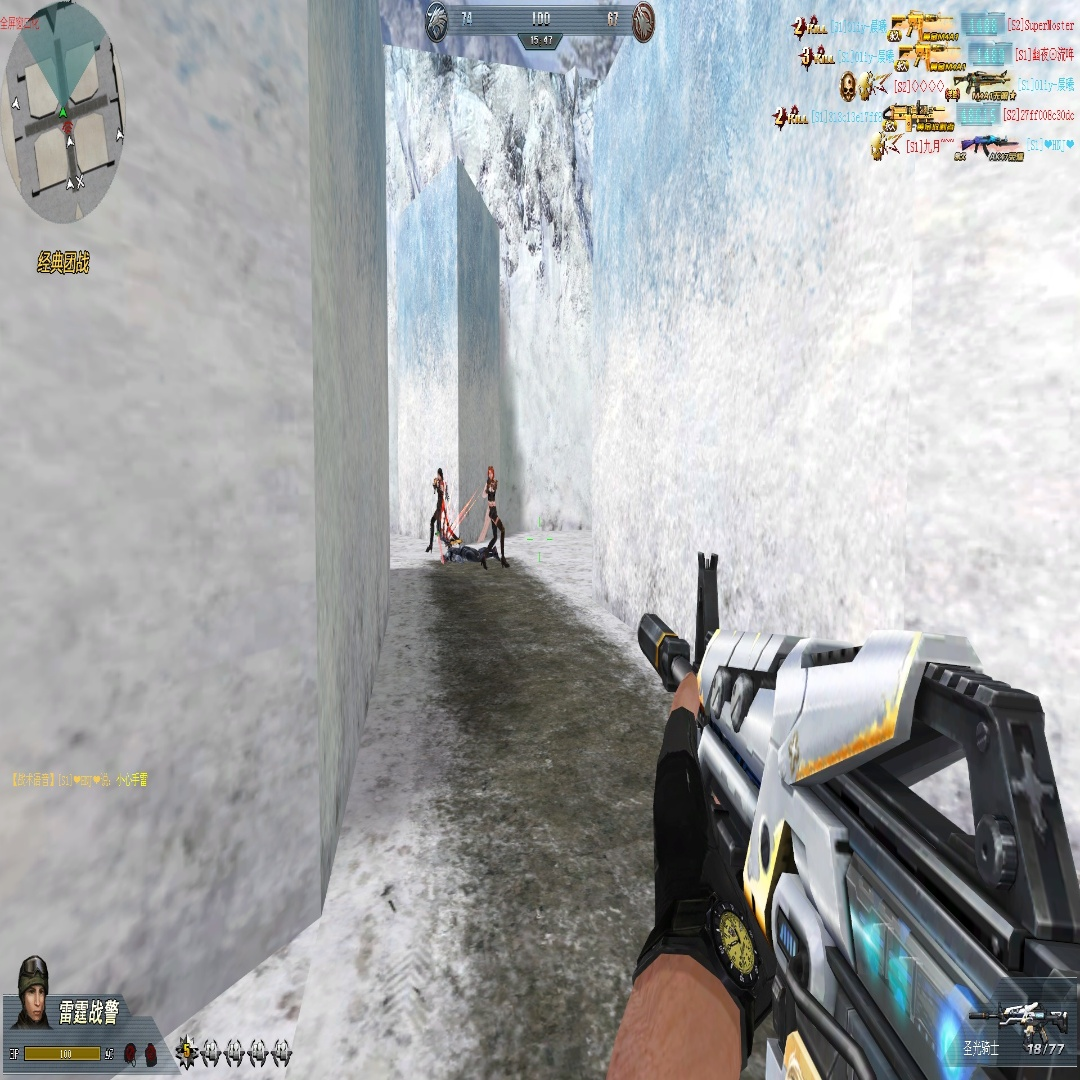t: (470, 464, 506, 570), (425, 467, 454, 558)
